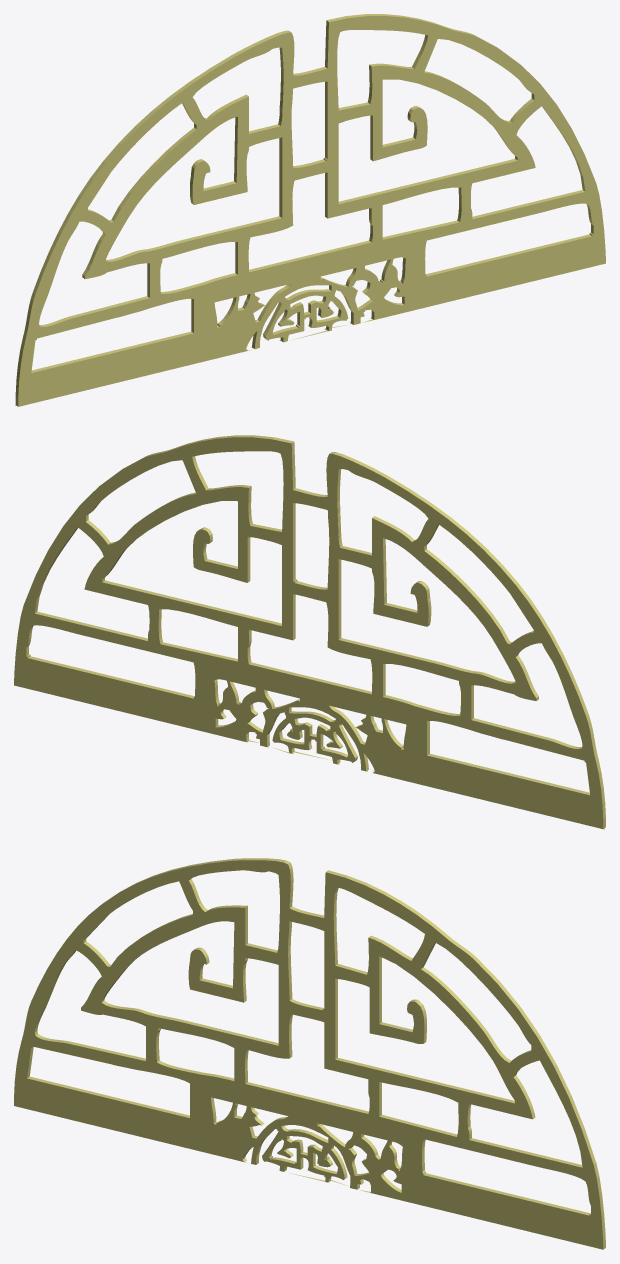
Rendered from chuang.fbx.
The picture shows the model from 3 angles, top to bottom: view 1: azimuth 30°, elevation 25°; view 2: azimuth 150°, elevation 25°; view 3: azimuth 330°, elevation 25°; orthographic projection.
Parts seen in each view (by area): view 1: zhongshi:Shape2; view 2: zhongshi:Shape2; view 3: zhongshi:Shape2.
Boxes of the visible parts, left/top/right/bottom form: zhongshi:Shape2: left=15, top=14, right=605, bottom=406; zhongshi:Shape2: left=14, top=435, right=605, bottom=829; zhongshi:Shape2: left=14, top=858, right=605, bottom=1249.
Size of the model in its own units: 0.2103 by 0.1053 by 0.00258.
